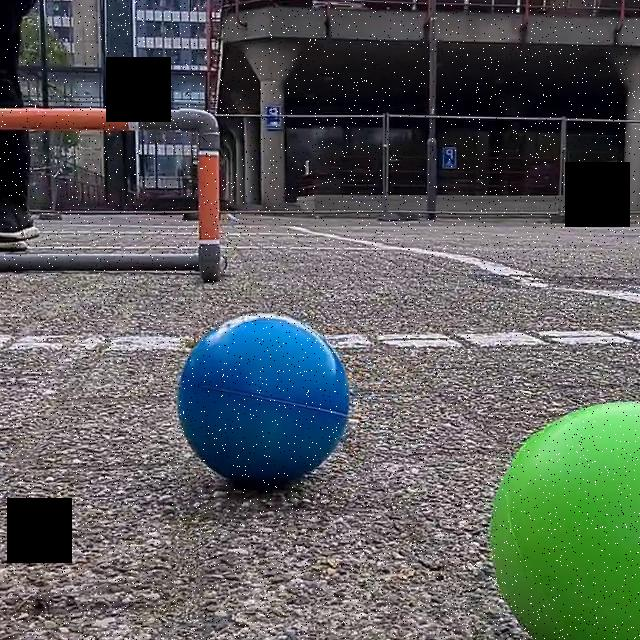ball: (488, 399, 640, 640), (178, 310, 354, 487)
